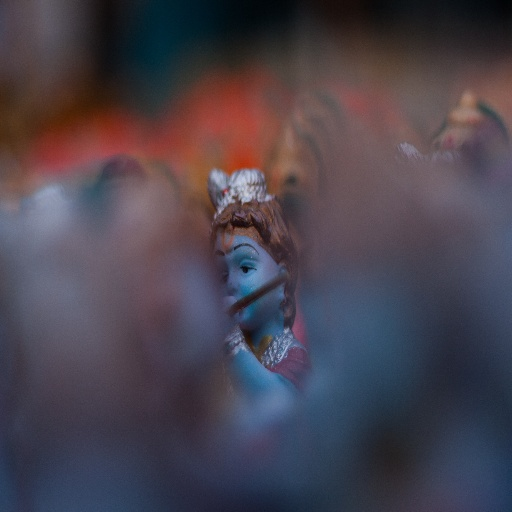hand: (219, 296, 237, 332)
